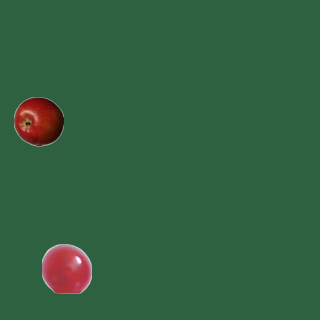Apple Braeburn: (13, 96, 63, 146)
Redcurrant: (41, 243, 91, 293)
